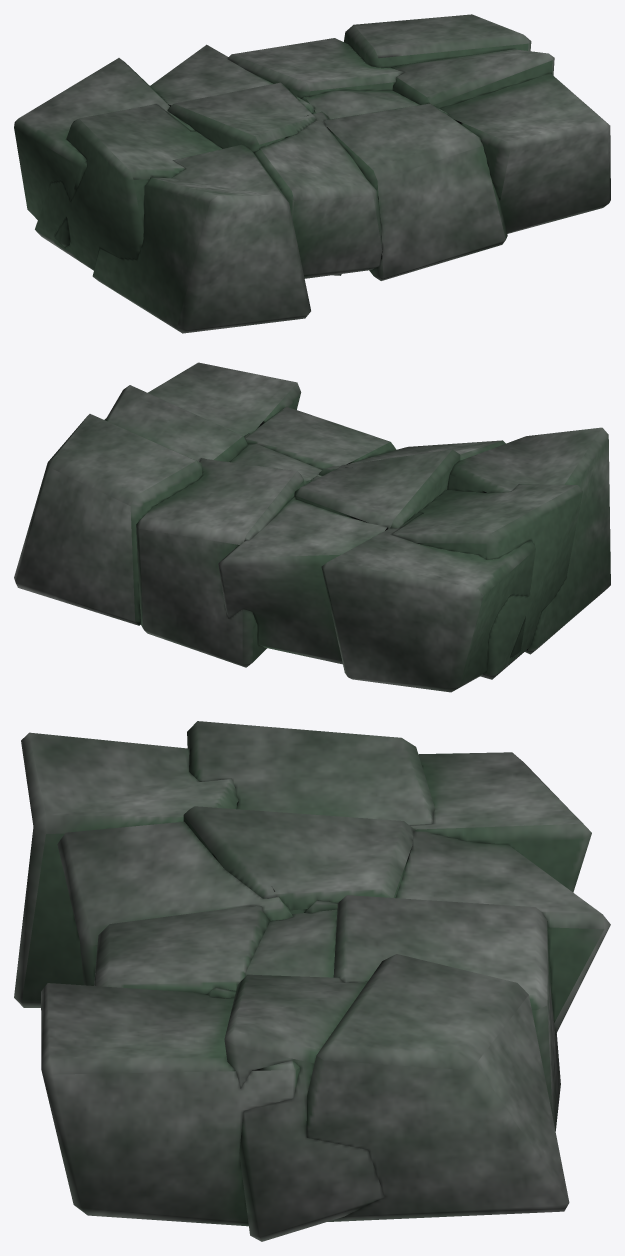
The model's file is wall.fbx.
3 views of the same model, one above another, from view 1: azimuth 30°, elevation 25°; view 2: azimuth 150°, elevation 25°; view 3: azimuth 270°, elevation 25° (orthographic). The views are drawn at different scales.
Visible parts, largest first — view 1: Куб.009; view 2: Куб.009; view 3: Куб.009.
Boxes of the visible parts, x1=… form: Куб.009: x1=14, y1=14, x2=610, y2=333; Куб.009: x1=14, y1=362, x2=610, y2=692; Куб.009: x1=14, y1=721, x2=610, y2=1241.
Size of the model in its own units: 290 by 96.59 by 220.
1 material, 1 textured.
